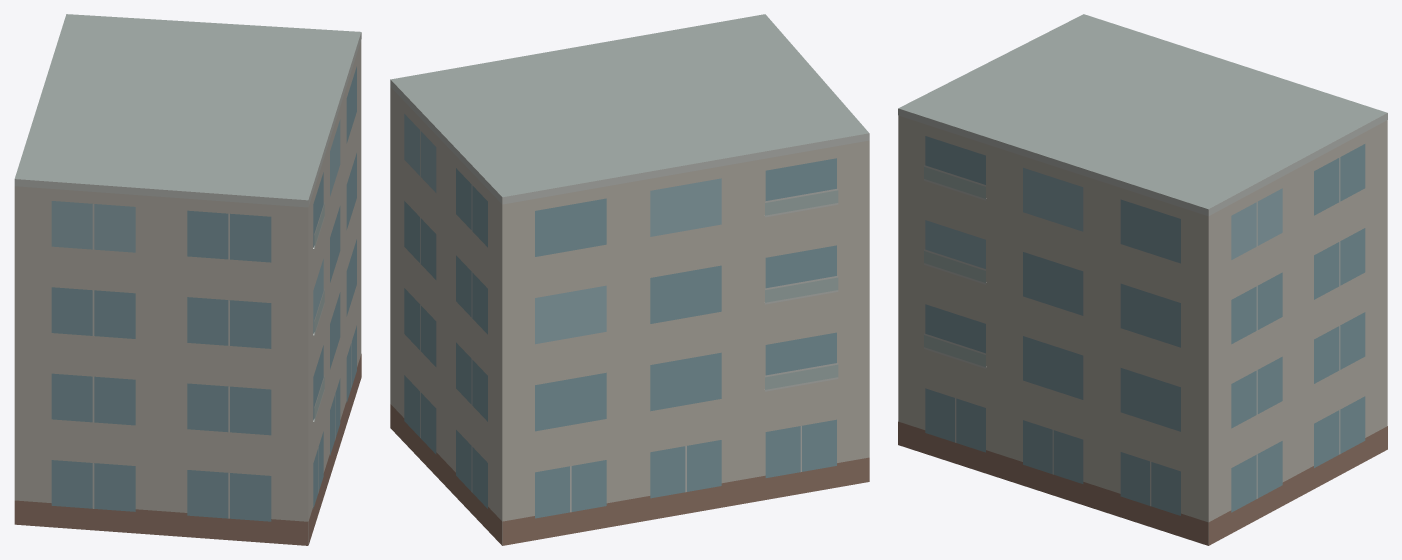
The model's file is survey-upis-32884765.glb.
The picture shows the model from 3 angles, left to right: view 1: azimuth 30°, elevation 25°; view 2: azimuth 150°, elevation 25°; view 3: azimuth 270°, elevation 25°; orthographic projection. The views are drawn at different scales.
Visible parts, largest first — view 1: survey-upis-32884765.tmp; view 2: survey-upis-32884765.tmp; view 3: survey-upis-32884765.tmp.
Part boxes in pixels (x1,y1,x2,y2): survey-upis-32884765.tmp: [14, 14, 361, 545]; survey-upis-32884765.tmp: [390, 14, 869, 545]; survey-upis-32884765.tmp: [898, 14, 1387, 545].
Size of the model in its own units: 14.57 by 11.7 by 15.43.
